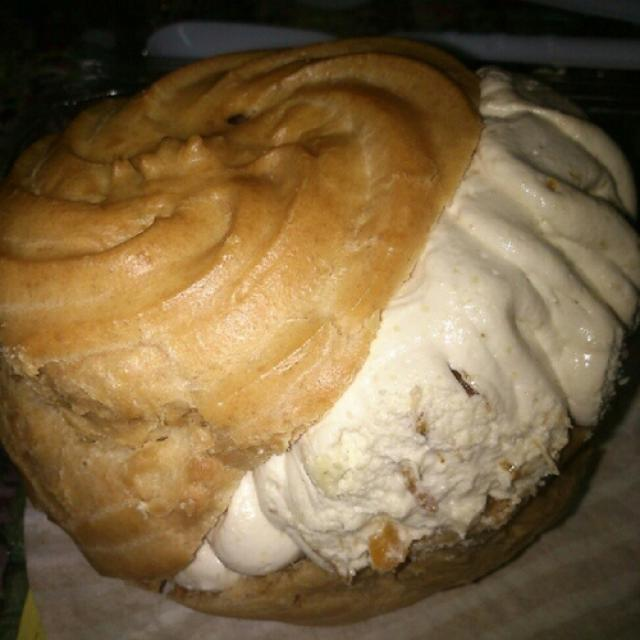炸货点心: (15, 26, 626, 613)
蛋糕甜品: (15, 26, 626, 613)
